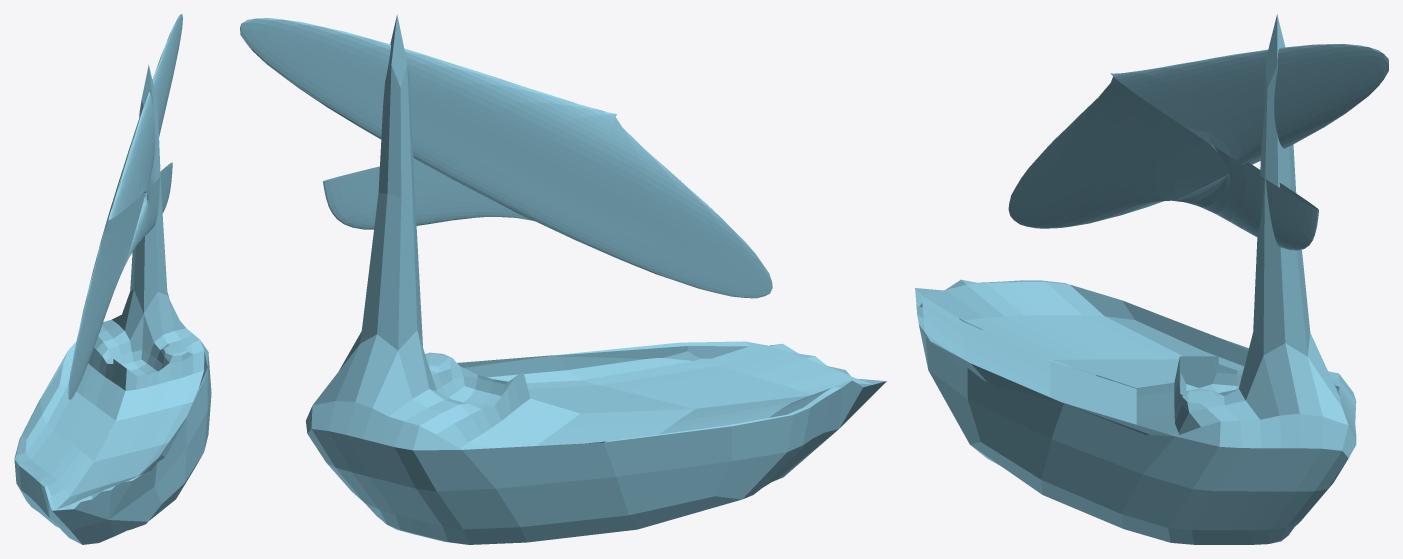
The model's file is sailboat.glb.
3 renders of one model, left to right at view 1: azimuth 30°, elevation 25°; view 2: azimuth 150°, elevation 25°; view 3: azimuth 270°, elevation 25°, orthographic. The views are drawn at different scales.
Visible parts, largest first — view 1: Cube, Cube.002; view 2: Cube, Cube.002; view 3: Cube, Cube.002, Cube.001.
Part boxes in pixels (x1,y1,x2,y2): Cube: (14,64,211,544); Cube.002: (68,14,182,399); Cube: (306,14,886,544); Cube.002: (240,18,772,298); Cube: (915,14,1356,544); Cube.002: (1008,44,1388,250); Cube.001: (1180,356,1218,387).
Size of the model in its own units: 6.3 by 7.69 by 6.08.
